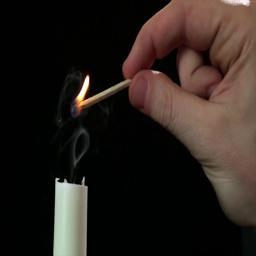fire: (74, 76, 89, 102)
